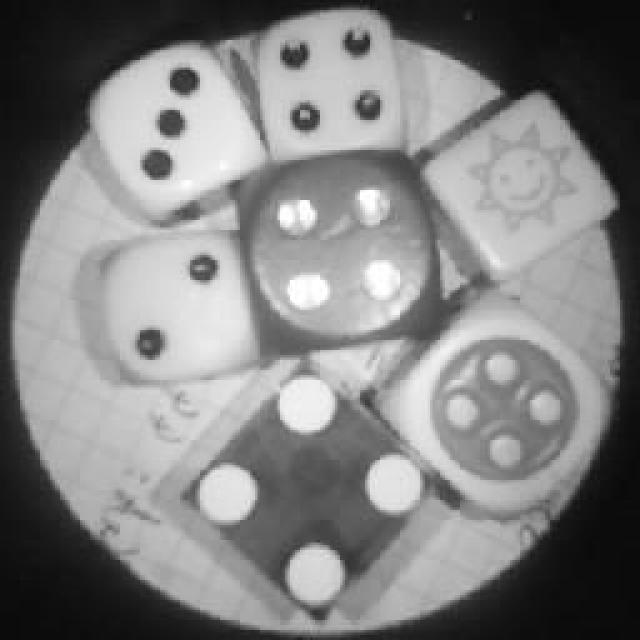dice_2: (92, 225, 252, 390)
dice_3: (93, 32, 265, 222)
dice_4: (175, 353, 433, 625), (370, 280, 608, 525), (240, 132, 450, 368), (248, 5, 408, 167)
